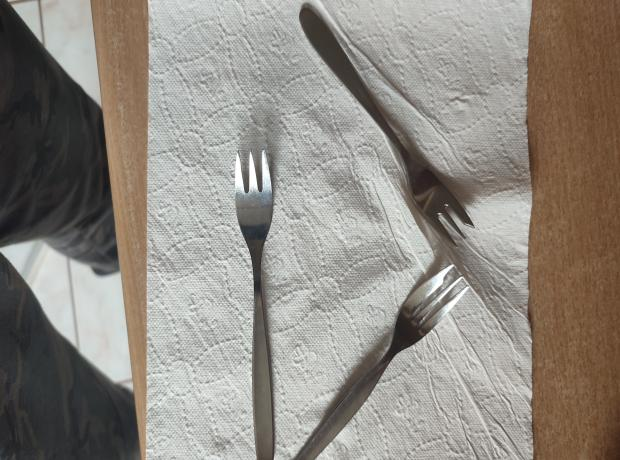metal: (300, 6, 474, 250), (296, 263, 472, 460), (234, 149, 273, 460)
